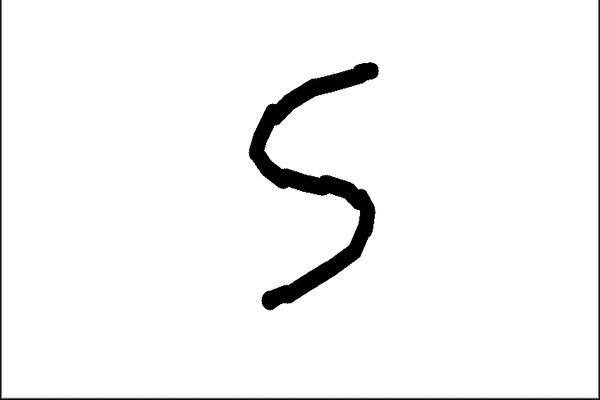S: (242, 58, 387, 316)
